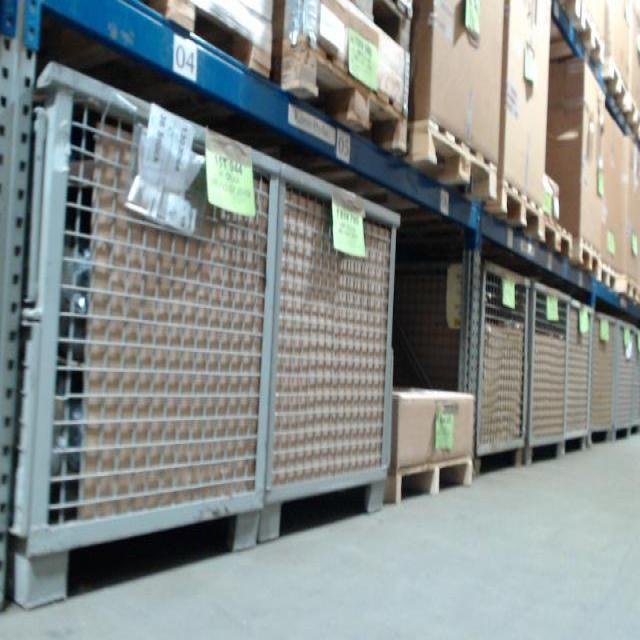pallet: (274, 26, 410, 154), (153, 2, 278, 88), (407, 100, 501, 213), (386, 452, 476, 513), (480, 176, 542, 246), (540, 207, 577, 265), (576, 231, 602, 285), (578, 14, 606, 61), (602, 65, 629, 107)
stillage: (5, 75, 278, 601), (270, 153, 404, 557), (393, 238, 530, 482), (523, 272, 576, 476), (566, 288, 592, 459), (590, 302, 615, 445), (615, 315, 636, 448), (638, 327, 639, 445)
